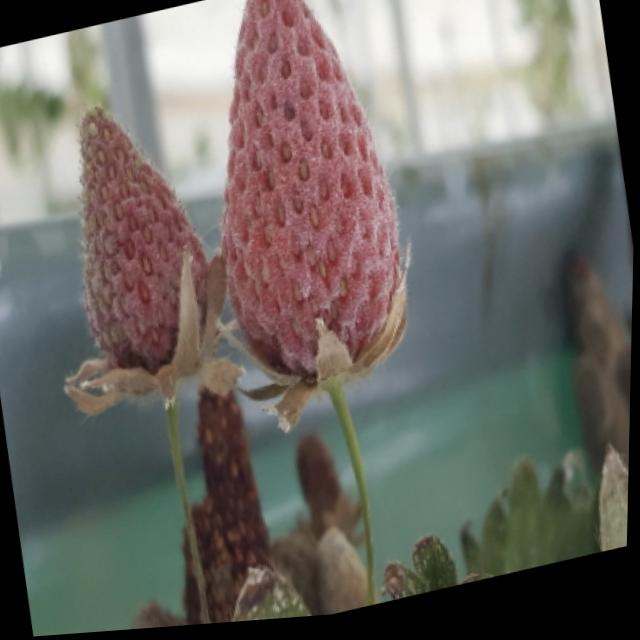Powdery Mildew Fruit: (221, 0, 404, 391), (76, 103, 222, 389)
